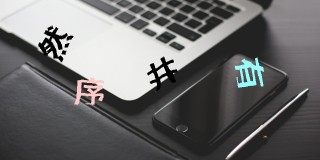井: (147, 56, 178, 90)
序: (73, 75, 105, 106)
有: (234, 57, 266, 88)
染: (39, 24, 73, 64)
